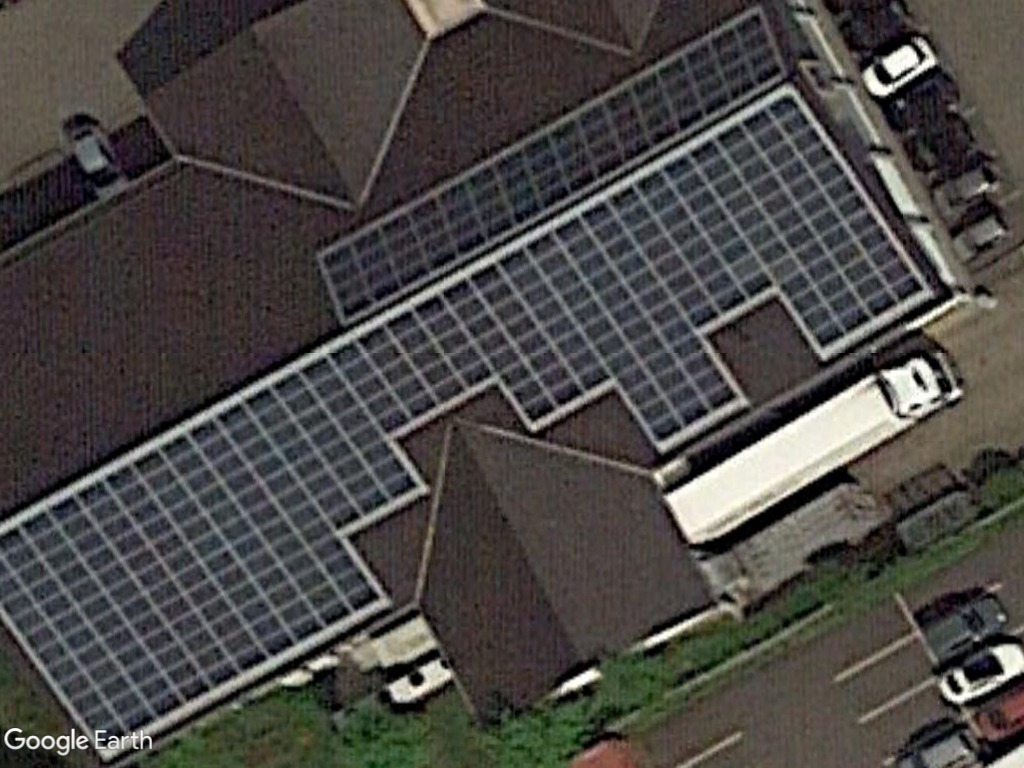car: (848, 17, 952, 108)
longvehicle: (638, 341, 983, 552)
